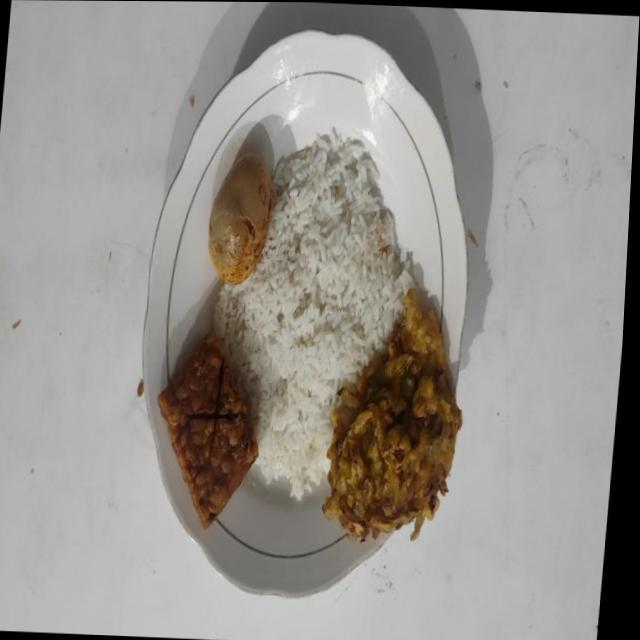nasi_putih: (214, 128, 412, 498)
tempe_goreng: (158, 332, 258, 529)
